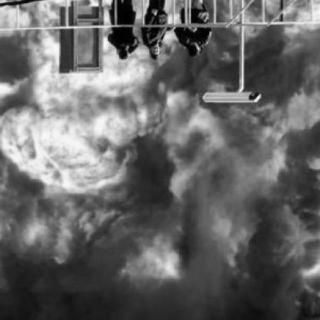Fire: (2, 3, 320, 306)
Smoke: (249, 172, 320, 320)
